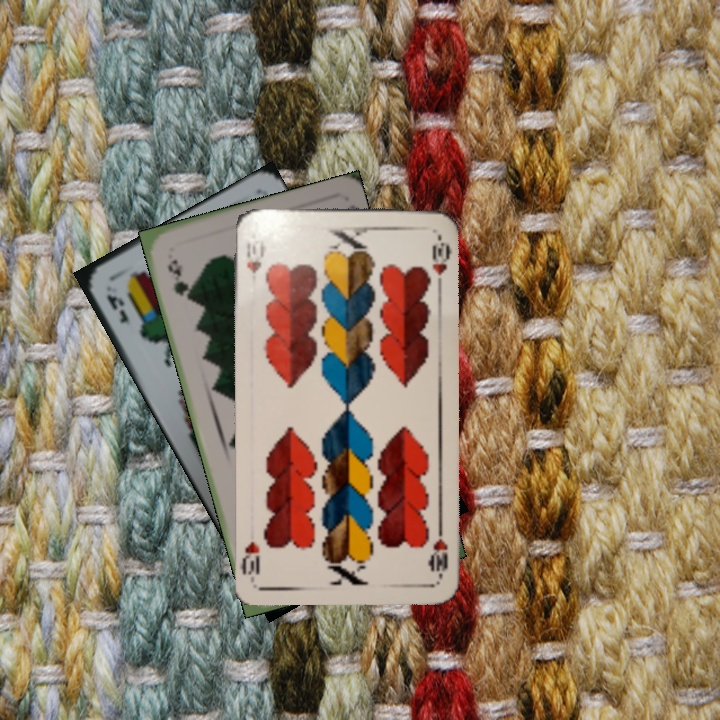EK: (102, 289, 131, 326)
G9: (163, 256, 192, 303)
H10: (426, 521, 450, 580), (243, 236, 266, 276)
